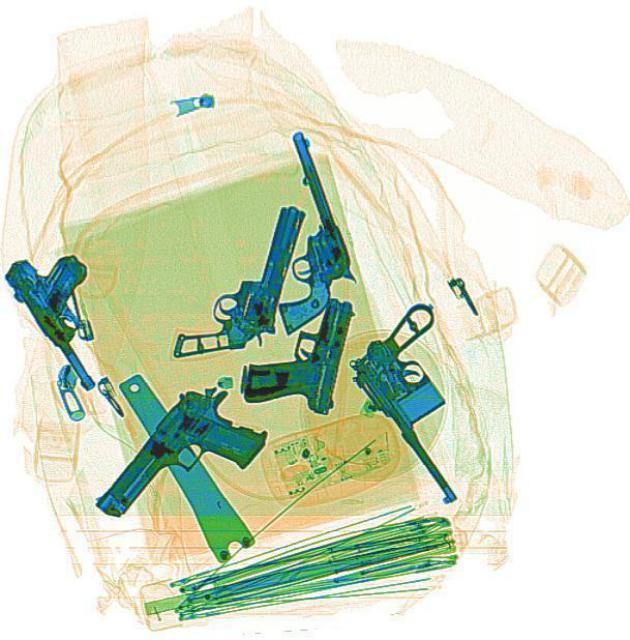Gun: (334, 299, 527, 505), (87, 368, 278, 558), (220, 128, 368, 334), (168, 185, 305, 377), (0, 237, 143, 388), (234, 280, 354, 418)
